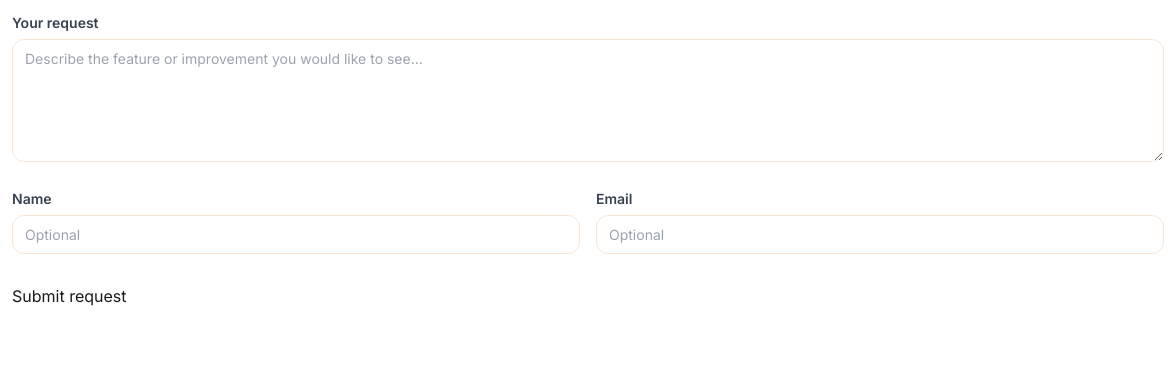
it: FeatureRequestForm › shows role=alert on server error
This screenshot has width=1176, height=392.
Type "Feature request that fails on server" into the text box labelled "Your request".
click(588, 100); type("Feature request that fails on server")  # box [12,39,1164,162]
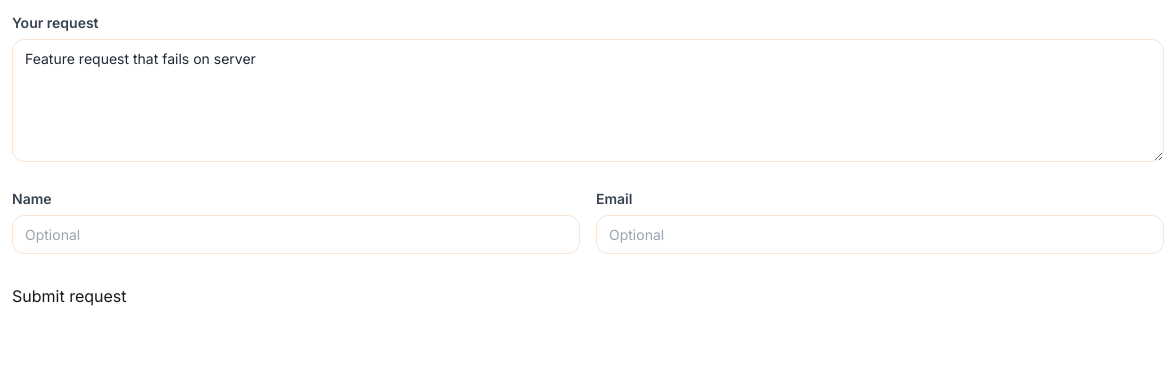
Click the button "Submit request".
click(69, 296)  # box [12,274,126,318]
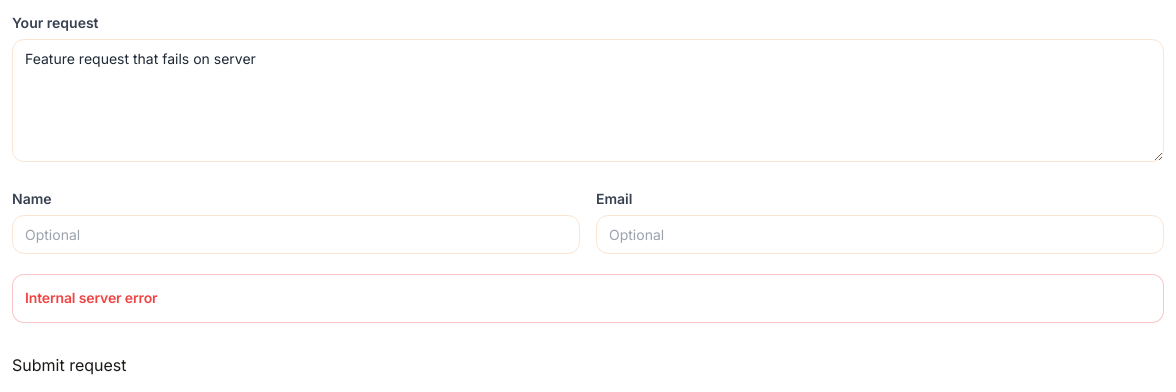
Expected: the message "Internal server error" is shown, [12,274,1164,323]
